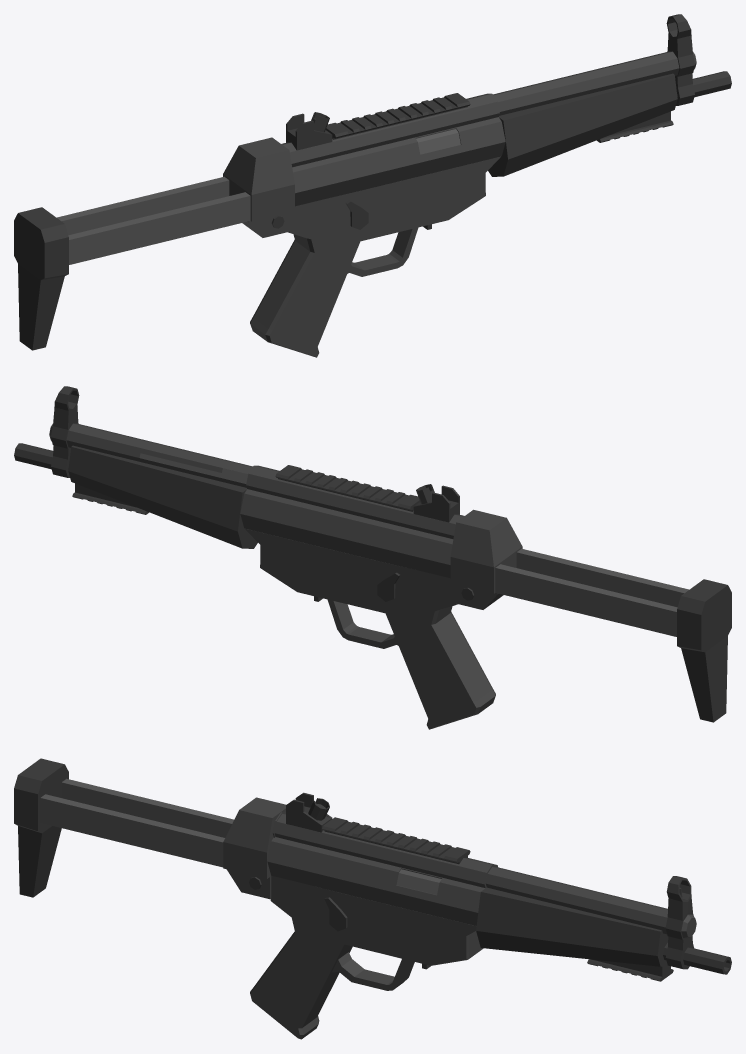
Rendered from SMG2_01.fbx.
3 views of the same model, one above another, from view 1: azimuth 30°, elevation 25°; view 2: azimuth 150°, elevation 25°; view 3: azimuth 330°, elevation 25° (orthographic).
Parts seen in each view (by area): view 1: SMG2_01; view 2: SMG2_01; view 3: SMG2_01.
Part boxes in pixels (box(x1,y1,x2,y2)): SMG2_01: box(14, 14, 731, 357); SMG2_01: box(14, 386, 731, 729); SMG2_01: box(14, 758, 731, 1039).
Size of the model in its own units: 0.7164 by 0.2409 by 0.0566.
